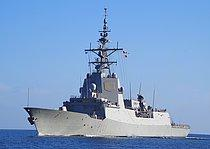MIL_Ship: (22, 58, 195, 139)
